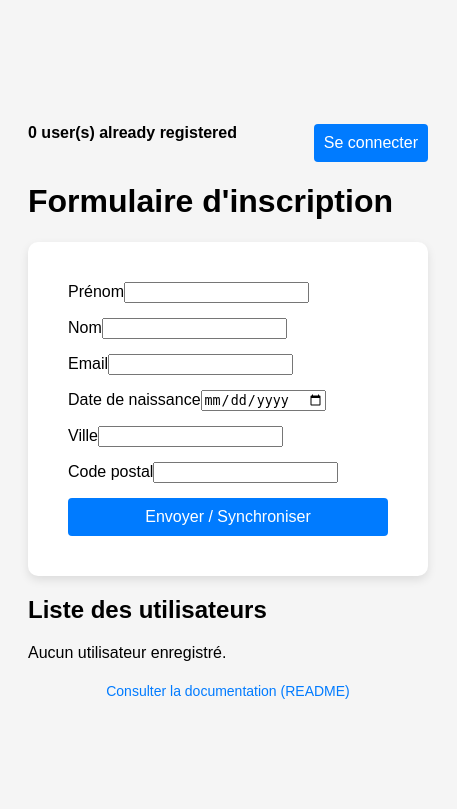
Test case: App component › shows error if login fails
Click the button "Se connecter". click: (371, 143)
box: [314,124,428,162]
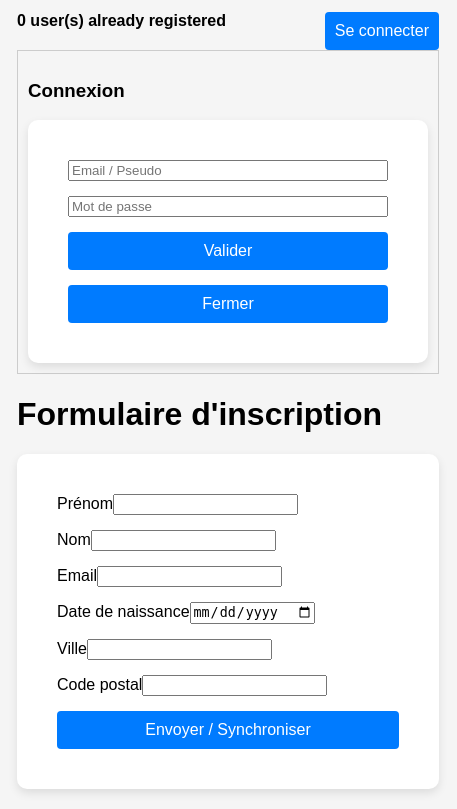
Type "admin" into the field with placeholder "Email / Pseudo". click: (228, 171)
box: [68,160,388,181]
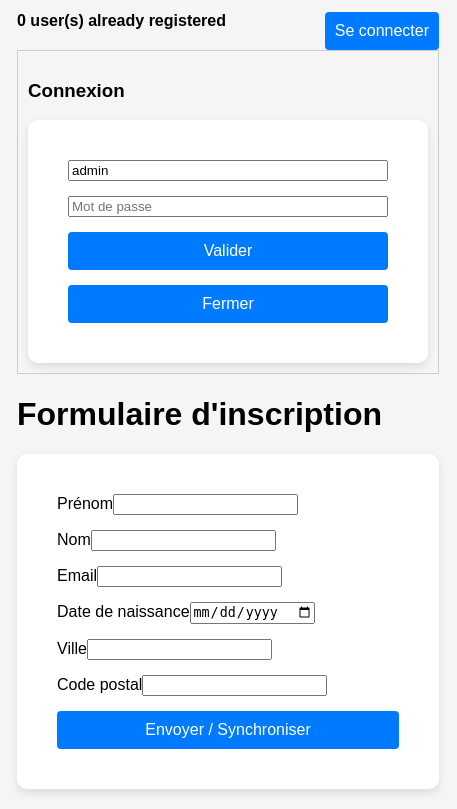
Type "wrong" into the password field with placeholder "Mot de passe". click: (228, 207)
box: [68,196,388,217]
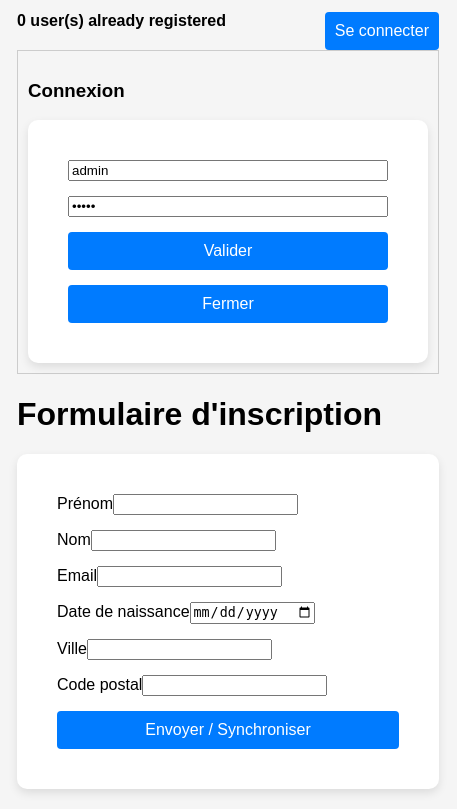
Click the button "Valider". click: (228, 251)
box: [68,232,388,270]
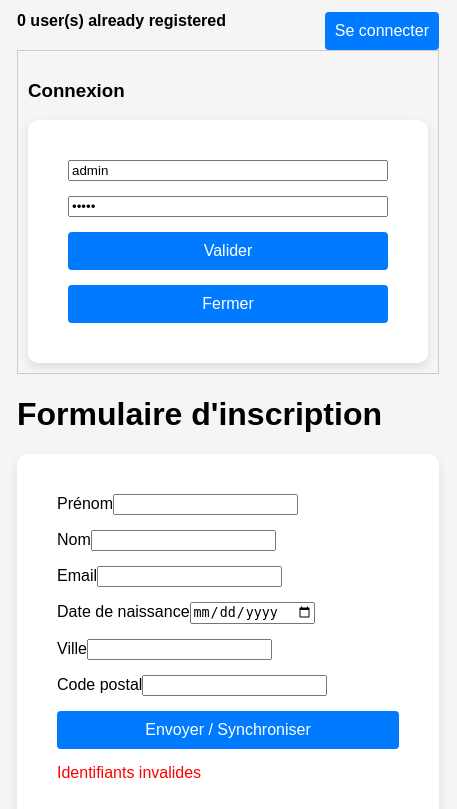
Expected: the message with test id "toaster-error" reads "Identifiants invalides", [57,764,201,781]
